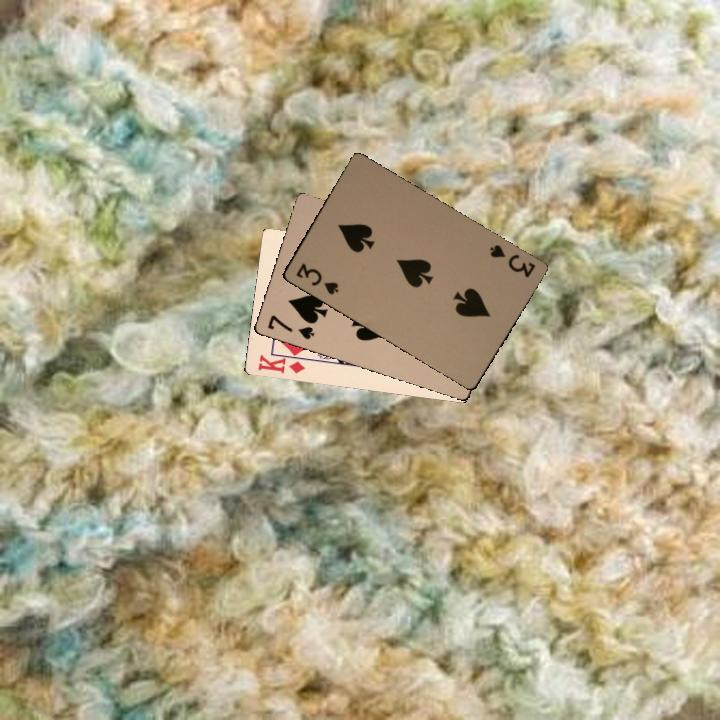3s: (486, 241, 538, 280), (292, 259, 341, 297)
7s: (263, 311, 317, 342)
Kd: (254, 347, 307, 376)
